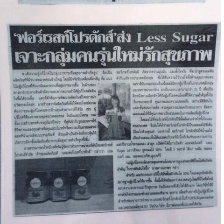news_paper: (5, 17, 222, 219)
